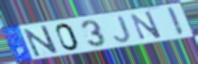0: (54, 22, 81, 52)
3: (81, 19, 108, 48)
I: (166, 6, 186, 37)
J: (112, 15, 133, 44)
N: (22, 24, 61, 58), (128, 10, 164, 41)
